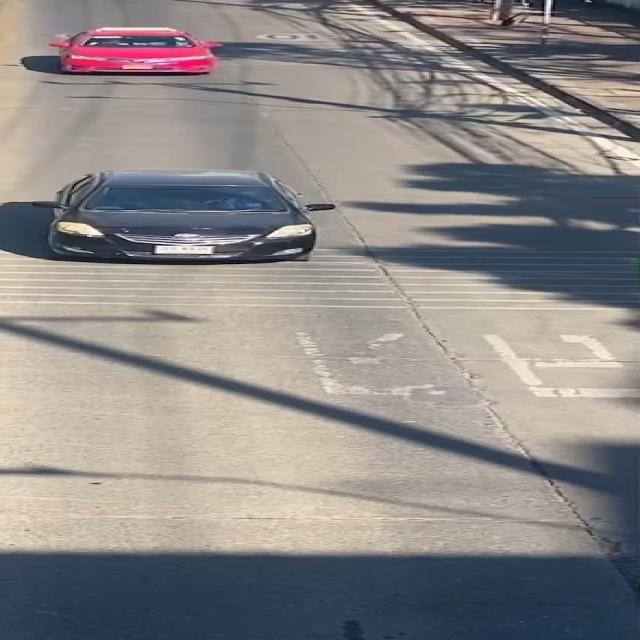car: (3, 158, 386, 273), (9, 20, 274, 88)
